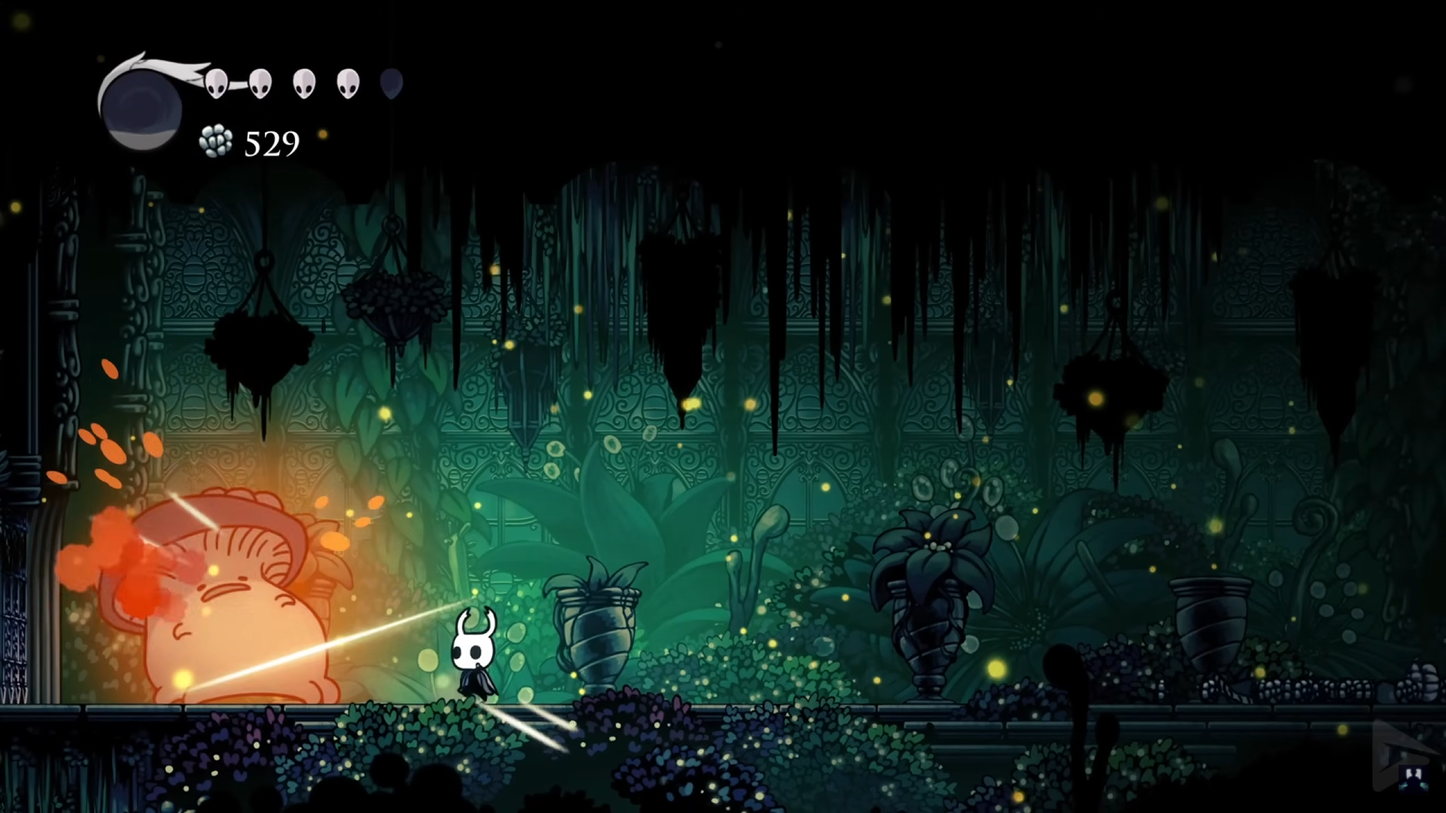HK: (444, 600, 499, 700)
